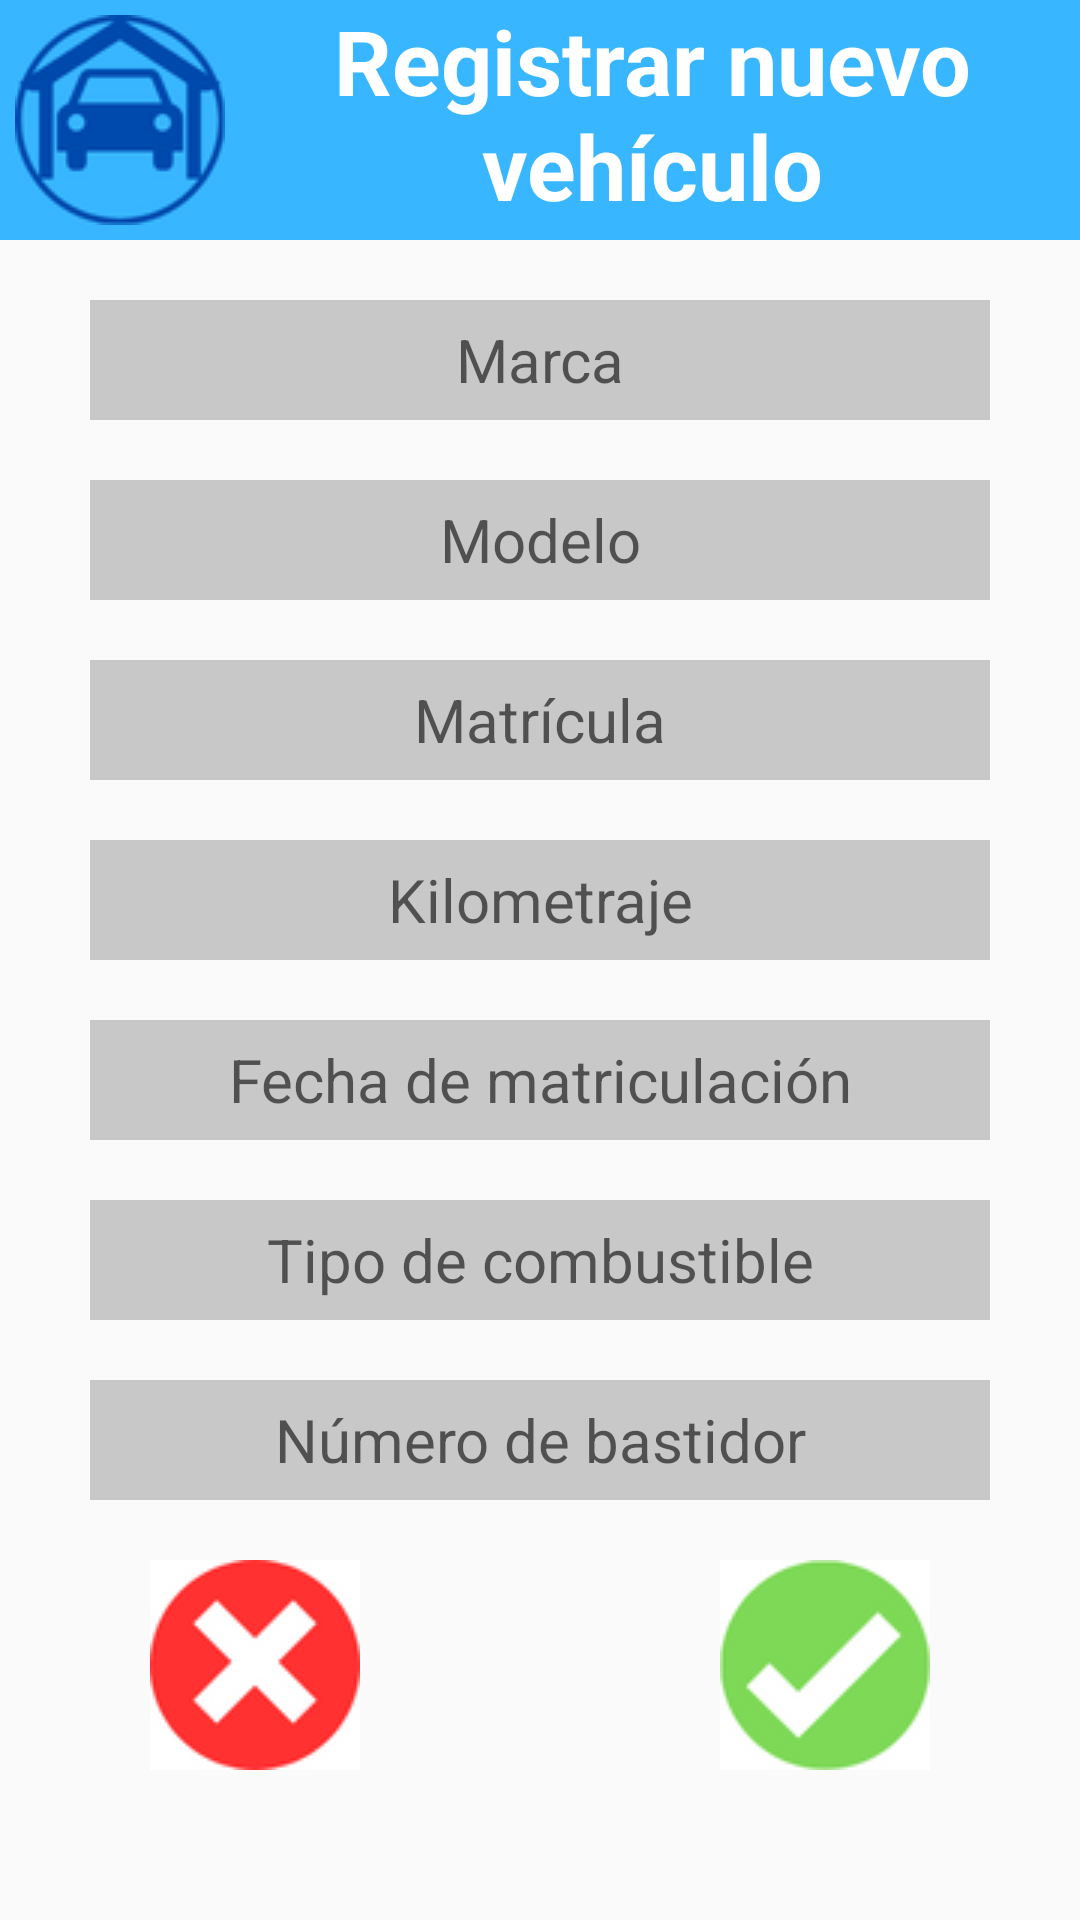

Icons on this 1080 x 1920 Android screen, each with the point to tap as (x=x, y=y):
aceptar: (x=825, y=1665)
cancelar: (x=255, y=1665)
garaje: (x=120, y=120)
